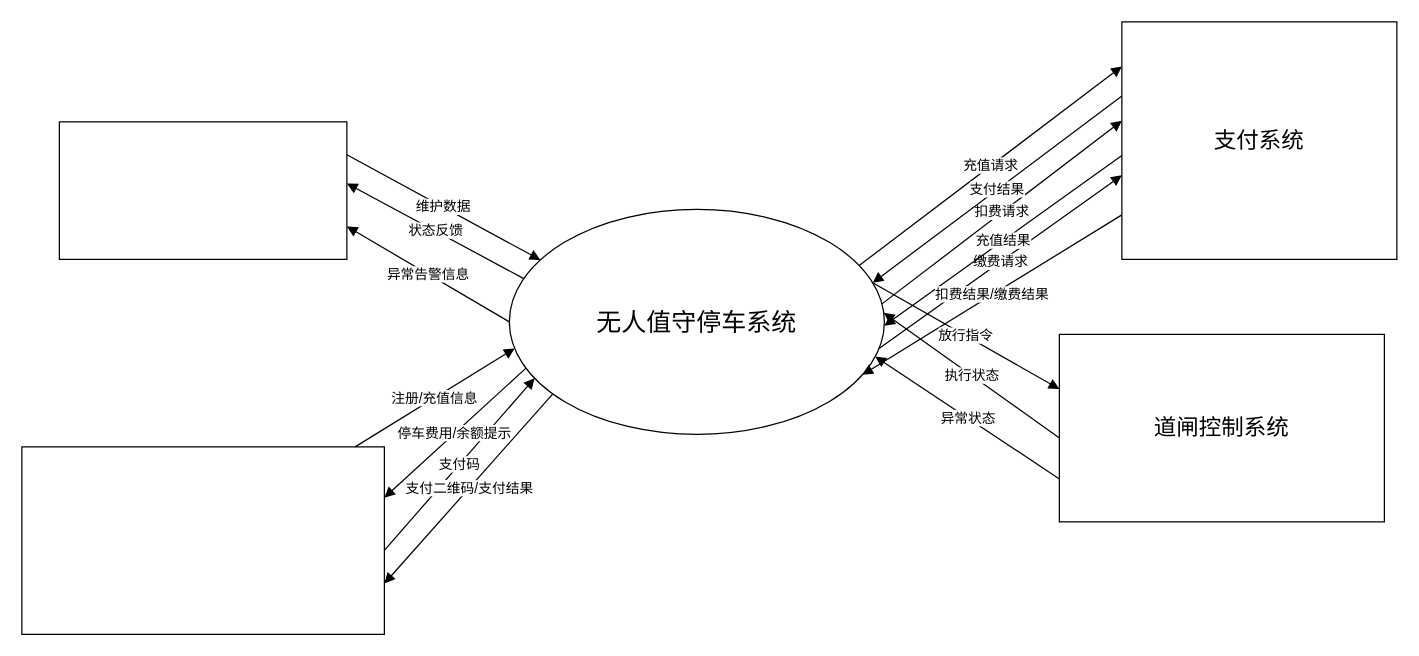
This 1419x656 diagram has some shape labels left out. The centre of each missing label's shape, as x and y in pixels:
管理员: point 202,190
车主: point 202,540
